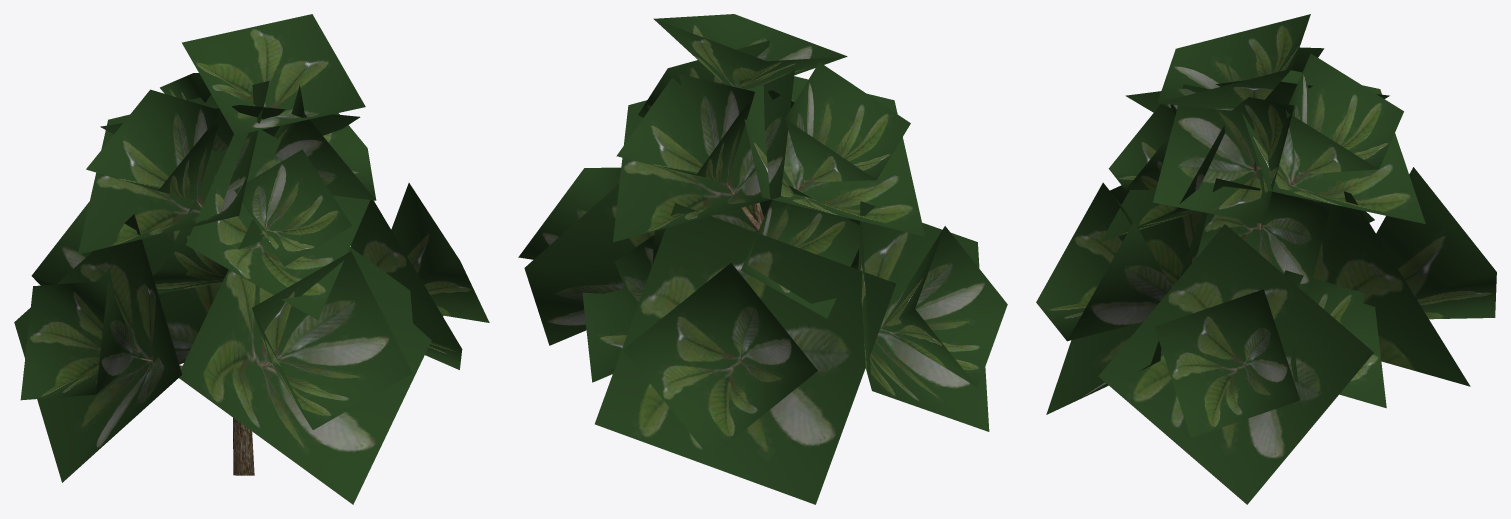
Rendered from leaf_palmbush_a3_l0.fbx.
3 renders of one model, left to right at view 1: azimuth 30°, elevation 25°; view 2: azimuth 150°, elevation 25°; view 3: azimuth 270°, elevation 25°, orthographic.
Parts seen in each view (by area): view 1: mesh_node; view 2: mesh_node; view 3: mesh_node.
Boxes of the visible parts, x1,y1,x2,y2 form: mesh_node: (14, 14, 489, 504); mesh_node: (518, 14, 1007, 504); mesh_node: (1036, 14, 1496, 504).
Bounding box in the file's own units: 2.05 × 1.93 × 1.85.
